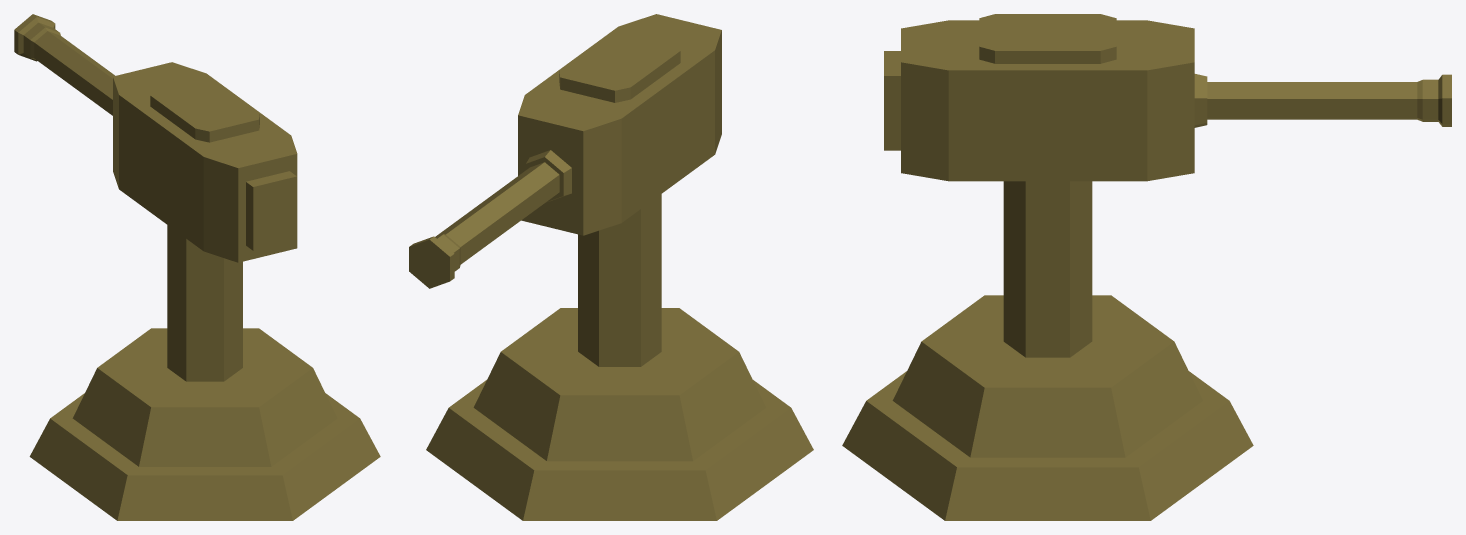
The model's file is MachineGunTower.glb.
3 views of the same model, side by side, from view 1: azimuth 30°, elevation 25°; view 2: azimuth 150°, elevation 25°; view 3: azimuth 270°, elevation 25° (orthographic). The views are drawn at different scales.
Parts seen in each view (by area): view 1: Base, Head, Barrel; view 2: Base, Head, Barrel; view 3: Base, Head, Barrel.
Part boxes in pixels (box(x1,y1,x2,y2)): Base: box(29, 225, 380, 520); Head: box(113, 62, 297, 262); Barrel: box(14, 14, 115, 115); Base: box(426, 194, 813, 520); Head: box(518, 14, 721, 235); Barrel: box(409, 162, 559, 288); Base: box(842, 181, 1253, 520); Head: box(884, 14, 1207, 181); Barrel: box(1207, 74, 1451, 126).
Size of the model in its own units: 1.73 by 2.22 by 2.96.
1 material, 1 textured.
